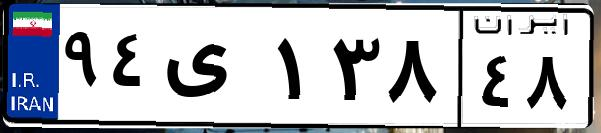1: (270, 28, 330, 110)
3: (330, 28, 385, 110)
4: (475, 38, 525, 113), (110, 28, 158, 98)
8: (385, 28, 445, 110), (525, 38, 570, 115)
9: (57, 26, 110, 100)
ی: (158, 20, 270, 120)
